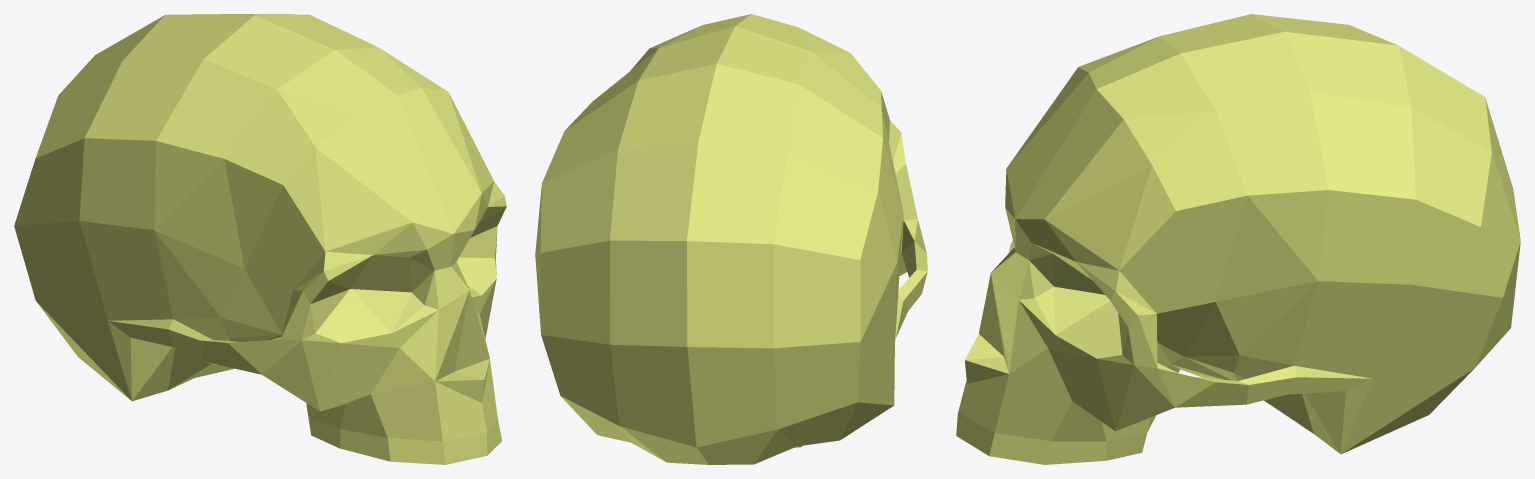
Rendered from Skull.fbx.
The picture shows the model from 3 angles, left to right: view 1: azimuth 30°, elevation 25°; view 2: azimuth 150°, elevation 25°; view 3: azimuth 270°, elevation 25°; orthographic projection. The views are drawn at different scales.
Visible parts, largest first — view 1: Cube.100; view 2: Cube.100; view 3: Cube.100.
Boxes of the visible parts, x1=… form: Cube.100: x1=14, y1=14, x2=506, y2=464; Cube.100: x1=535, y1=14, x2=927, y2=464; Cube.100: x1=956, y1=14, x2=1520, y2=464.
Bounding box in the file's own units: 76.8 × 72.19 × 97.8.
